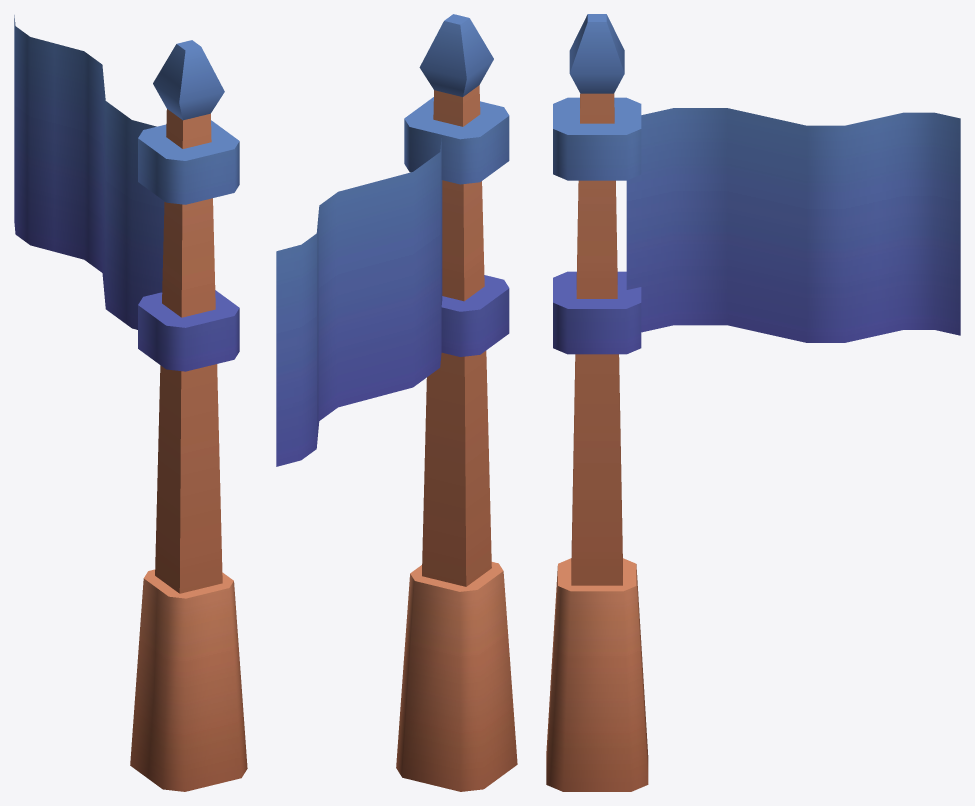
Rendered from flag.glb.
The picture shows the model from 3 angles, left to right: view 1: azimuth 30°, elevation 25°; view 2: azimuth 150°, elevation 25°; view 3: azimuth 270°, elevation 25°; orthographic projection. The views are drawn at different scales.
Visible parts, largest first — view 1: flag; view 2: flag; view 3: flag.
Part boxes in pixels (x1,y1,x2,y2): flag: (14, 15, 247, 791); flag: (276, 14, 517, 791); flag: (546, 14, 960, 791).
Size of the model in its own units: 0.1064 by 0.8656 by 0.4323.
Materials: 1 (1 with a texture image).
